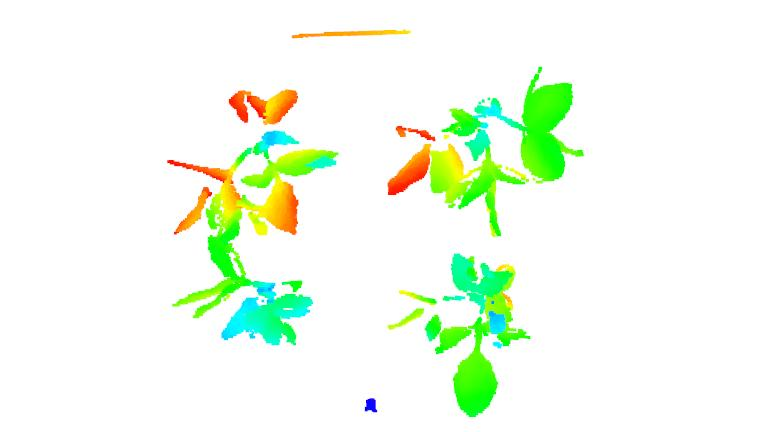mungbean: (384, 82, 581, 234), (169, 84, 343, 240), (382, 250, 529, 421), (162, 234, 311, 348)
